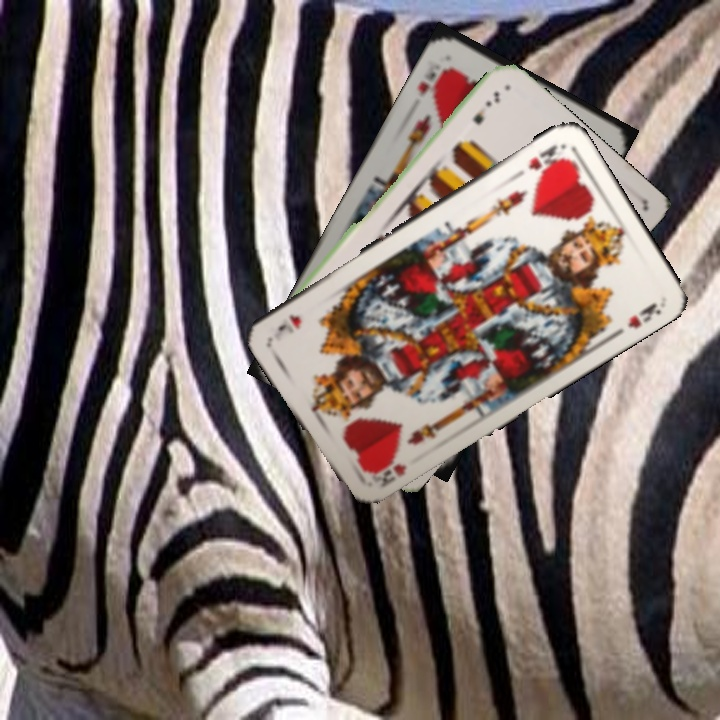E7: (468, 87, 503, 127)
HK: (511, 140, 568, 181), (365, 451, 409, 491), (413, 61, 453, 101)
